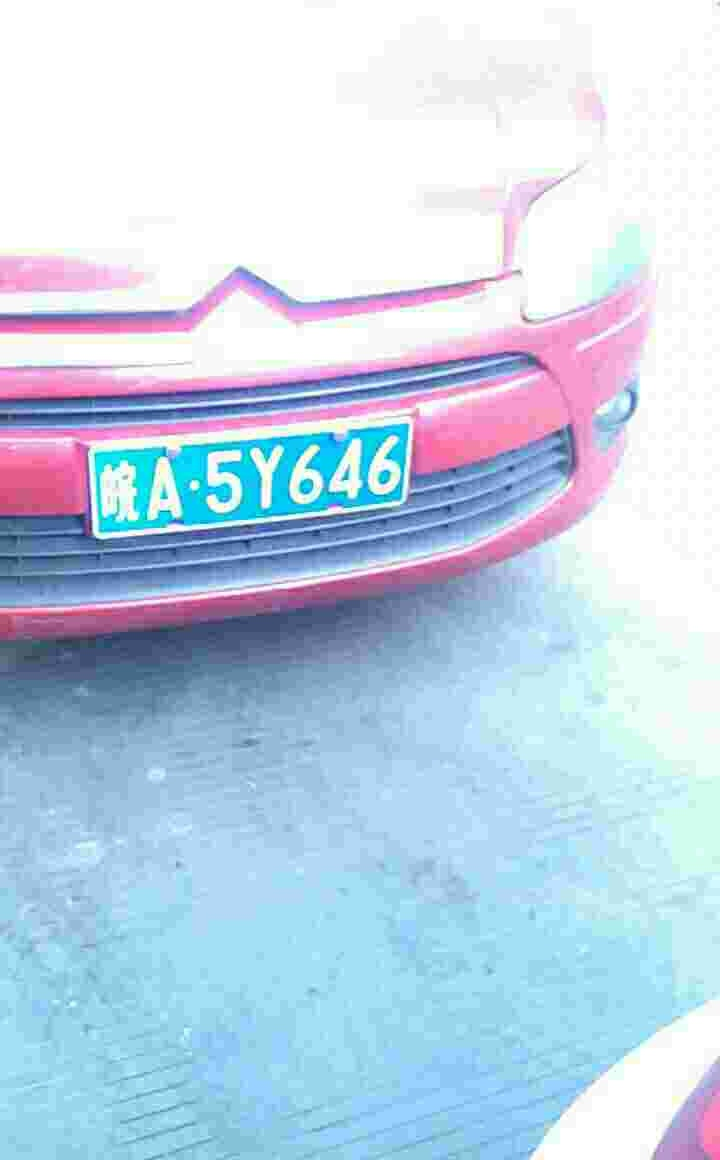license_plate: (90, 421, 414, 544)
